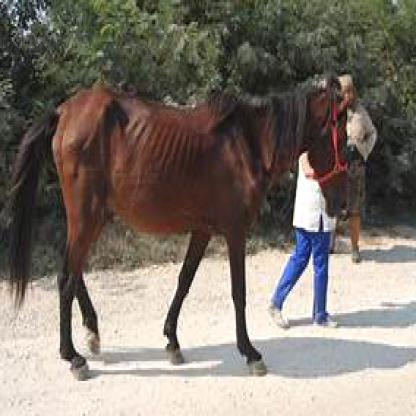horse: (8, 76, 352, 378)
